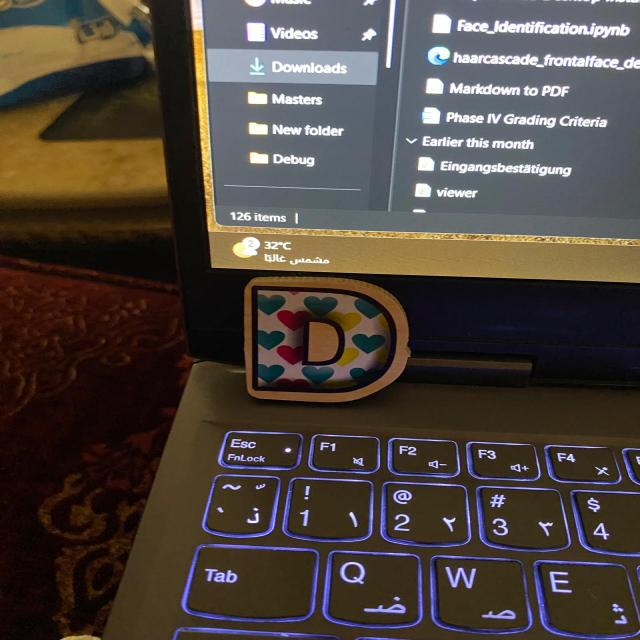D: (245, 277, 409, 402)
